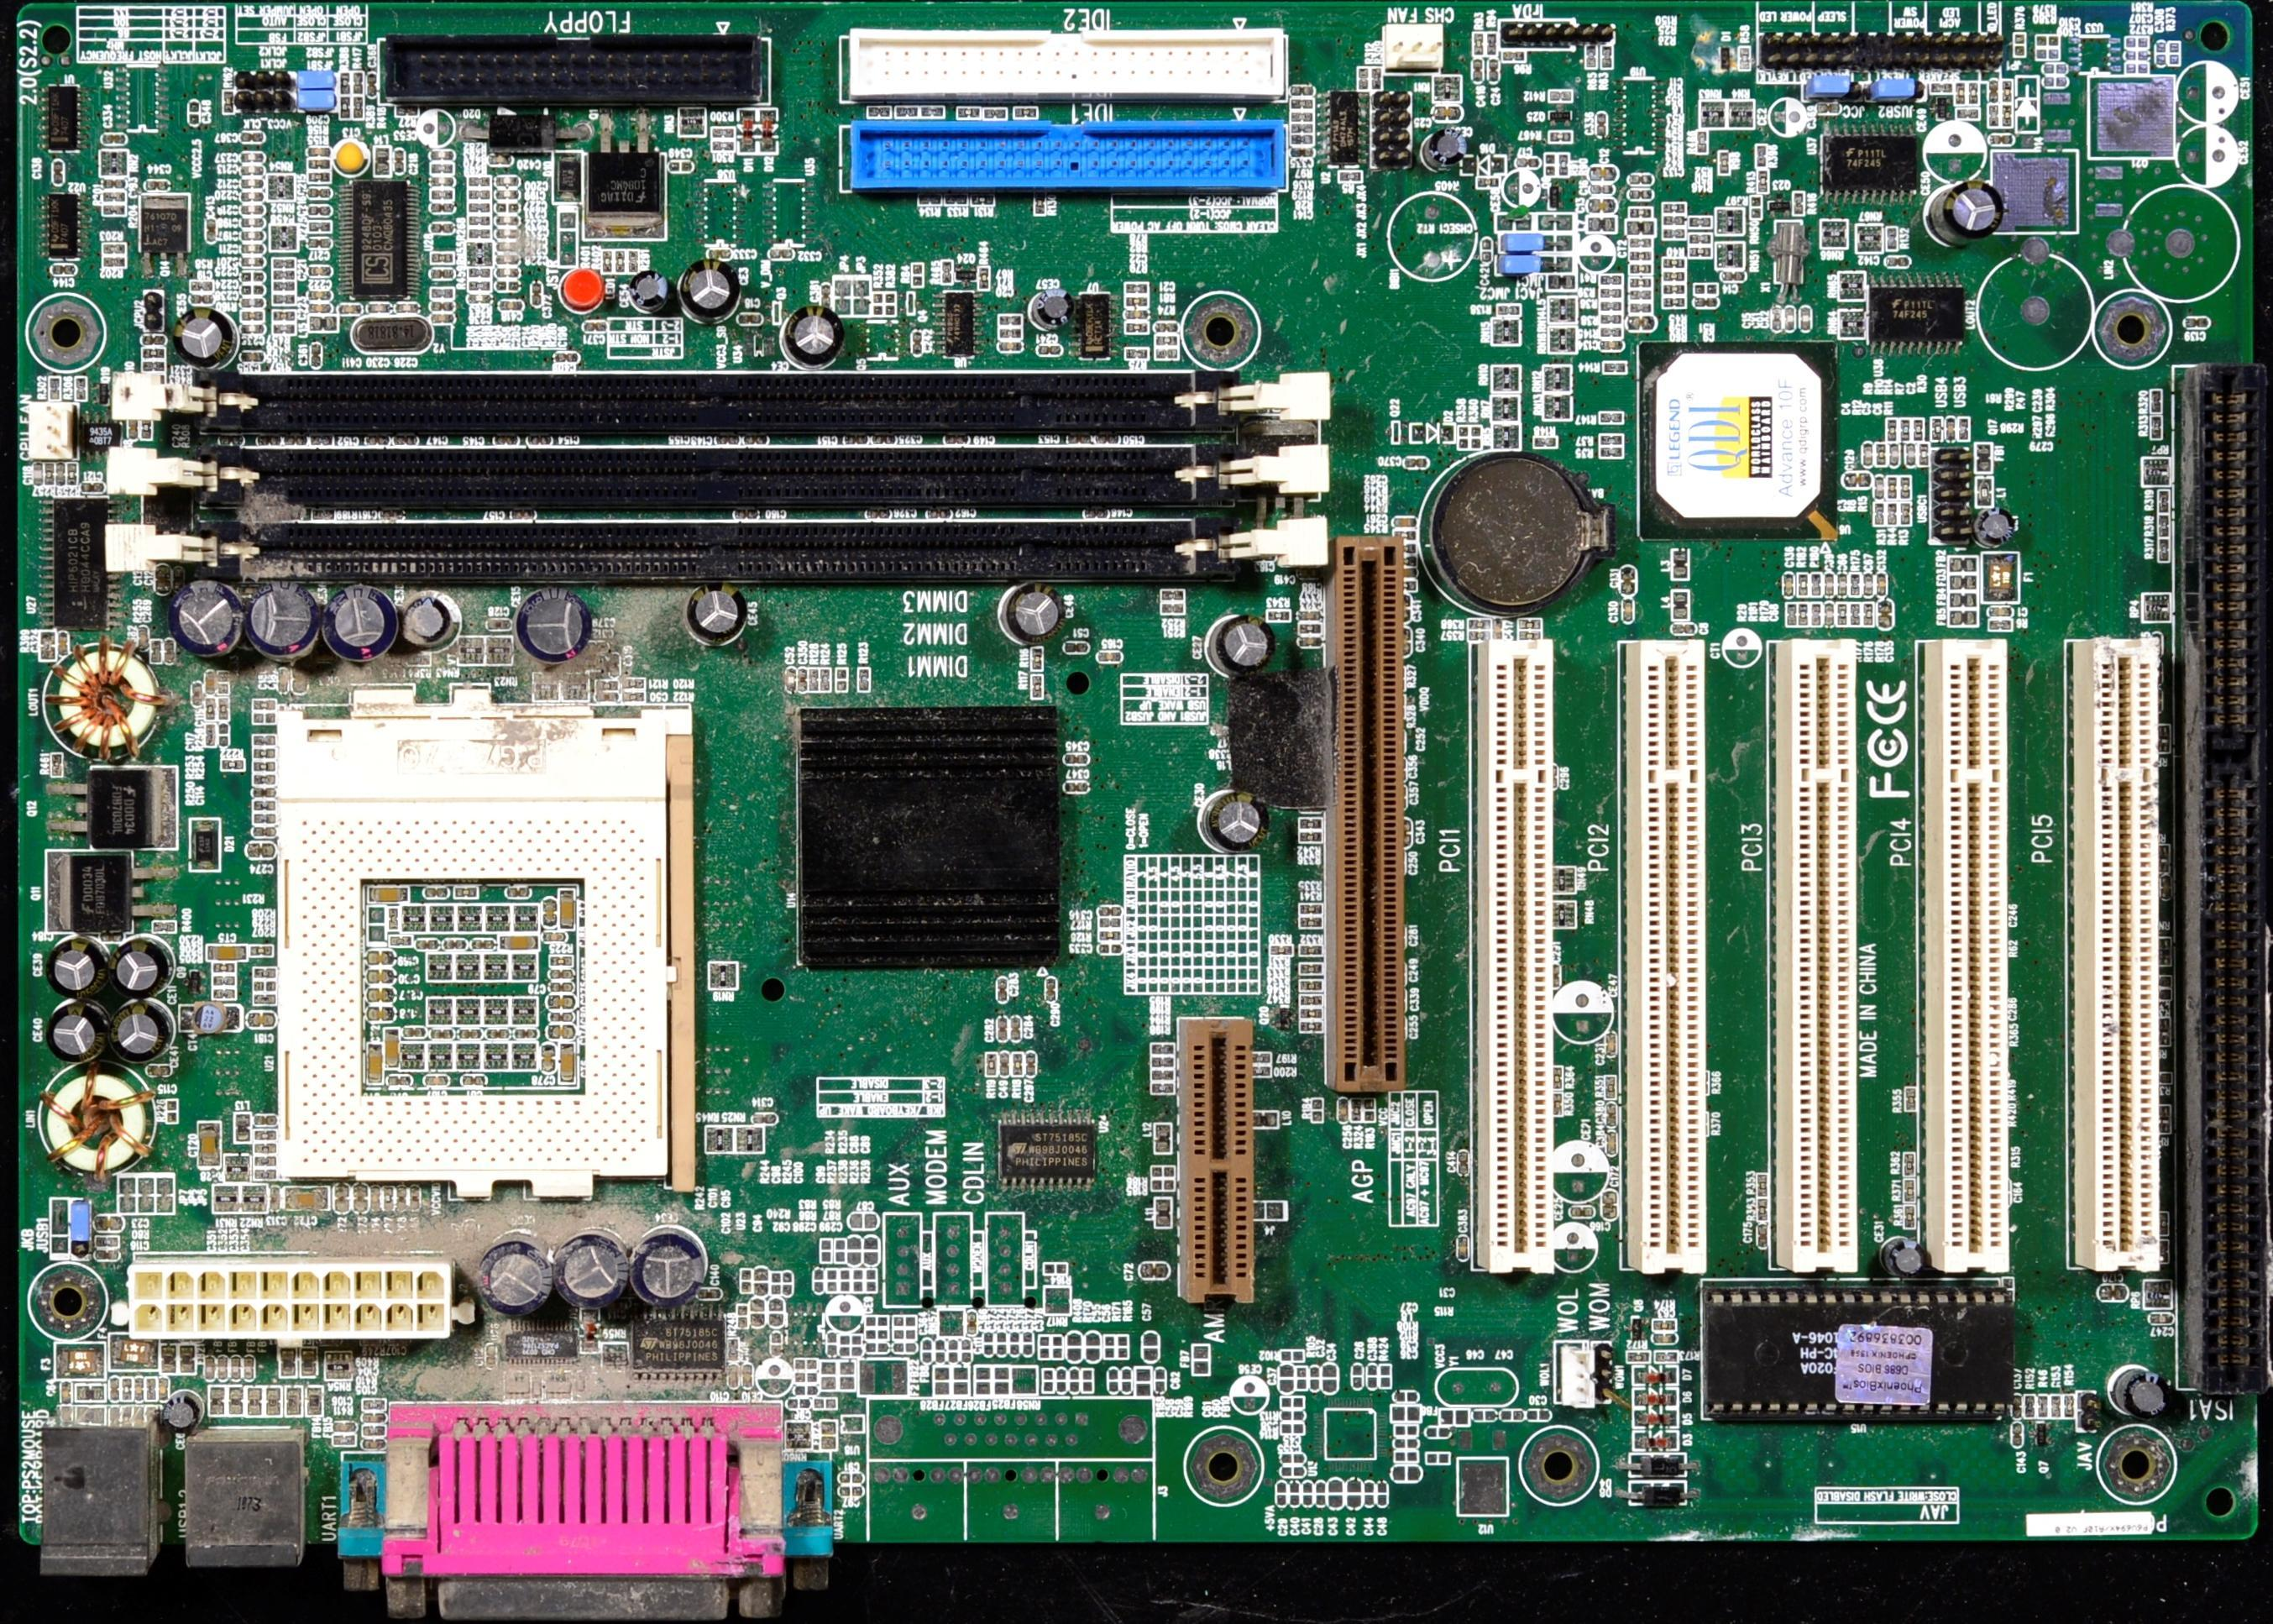Capacitor: (249, 1011, 279, 1033), (1432, 105, 1467, 123), (2097, 1283, 2129, 1302), (1844, 471, 1873, 492), (1876, 603, 1895, 633), (155, 566, 172, 598), (1277, 1367, 1296, 1396), (1326, 1482, 1346, 1510), (1321, 1362, 1339, 1392), (1628, 316, 1658, 334), (93, 1218, 125, 1234), (1138, 1265, 1170, 1281), (2010, 1424, 2025, 1454), (1588, 199, 1618, 214), (1876, 573, 1892, 603), (1621, 566, 1635, 598), (1621, 598, 1637, 626), (1063, 640, 1091, 656), (1096, 652, 1124, 668), (1375, 1480, 1389, 1510), (1347, 1480, 1361, 1510), (1590, 169, 1620, 183), (207, 986, 234, 1002), (1288, 1485, 1303, 1512), (1797, 304, 1813, 330), (1486, 58, 1502, 84), (1653, 1332, 1681, 1346), (1309, 1364, 1323, 1392), (1122, 308, 1151, 322), (1771, 306, 1785, 334), (1781, 571, 1795, 599), (1298, 606, 1323, 622), (783, 670, 799, 694), (213, 963, 239, 977), (93, 1250, 119, 1264), (1403, 457, 1430, 471), (1063, 780, 1089, 794), (2147, 1311, 2176, 1323), (237, 132, 267, 144), (1281, 1464, 1310, 1476), (1625, 174, 1655, 186), (994, 1019, 1010, 1042), (1298, 1483, 1314, 1506), (365, 74, 379, 98), (1098, 905, 1126, 917), (1096, 944, 1124, 956), (1606, 1033, 1620, 1058), (999, 1053, 1012, 1081), (1337, 1097, 1351, 1121), (1606, 1102, 1618, 1130), (1458, 1149, 1470, 1178), (429, 149, 457, 162), (1516, 156, 1541, 170), (429, 174, 453, 188), (309, 264, 334, 278), (1035, 344, 1063, 357), (2045, 76, 2069, 90), (994, 981, 1010, 1002), (499, 227, 520, 243), (1045, 977, 1057, 1004), (1606, 1134, 1618, 1160), (1275, 1480, 1288, 1506), (671, 160, 697, 172), (1628, 188, 1655, 200), (306, 206, 332, 218), (998, 341, 1024, 353), (1008, 1021, 1022, 1044), (105, 132, 128, 146), (104, 179, 126, 193), (1597, 112, 1609, 137), (1502, 1410, 1526, 1422), (1474, 1410, 1498, 1422), (430, 163, 455, 176), (497, 204, 522, 216), (204, 218, 216, 243), (768, 248, 792, 260), (1721, 271, 1746, 283), (309, 302, 334, 315), (1785, 308, 1797, 332), (1393, 517, 1418, 529), (239, 153, 267, 163), (1588, 185, 1616, 195), (309, 186, 330, 200), (242, 228, 263, 243), (706, 250, 734, 260), (1883, 258, 1911, 269), (218, 722, 228, 750), (1353, 1366, 1365, 1388), (1528, 1410, 1551, 1422), (1363, 1482, 1375, 1504), (497, 176, 520, 188), (53, 265, 76, 278), (530, 283, 543, 306), (912, 332, 924, 355), (1864, 575, 1876, 598), (190, 100, 200, 127), (1284, 1454, 1310, 1464), (306, 148, 332, 158), (490, 155, 516, 165), (141, 181, 172, 190), (306, 239, 332, 250), (1483, 237, 1493, 264), (306, 290, 332, 301), (499, 301, 525, 311), (2183, 318, 2210, 329), (1864, 443, 1874, 469), (2043, 65, 2069, 76), (1291, 148, 1316, 158), (242, 179, 267, 190), (241, 193, 265, 204), (497, 216, 522, 227), (499, 255, 520, 267), (242, 272, 267, 283), (469, 294, 494, 304), (369, 302, 393, 313), (1154, 322, 1179, 332), (241, 325, 265, 336), (142, 336, 167, 346), (1600, 341, 1625, 352), (81, 483, 105, 494), (2157, 42, 2168, 67), (1823, 575, 1836, 596), (1988, 606, 2013, 617), (1474, 62, 1486, 83), (2124, 51, 2152, 60), (1758, 1225, 1769, 1248), (53, 162, 63, 185), (242, 206, 265, 216), (1887, 228, 1897, 251), (497, 241, 520, 251), (244, 243, 267, 253), (244, 257, 267, 267), (242, 285, 265, 295), (399, 304, 422, 315), (1890, 446, 1901, 469), (1837, 575, 1848, 598), (1493, 620, 1505, 640), (1026, 1051, 1035, 1077), (738, 316, 764, 325), (1948, 417, 1957, 443), (432, 190, 453, 200), (497, 190, 518, 200), (499, 267, 520, 278), (191, 295, 213, 306), (33, 464, 44, 485), (1300, 636, 1321, 647), (1291, 88, 1316, 97), (1458, 1237, 1467, 1262), (429, 204, 453, 213), (1695, 299, 1720, 308), (313, 343, 321, 367), (1825, 605, 1834, 629), (1063, 756, 1087, 765), (2011, 1397, 2022, 1417), (244, 165, 263, 176), (341, 304, 360, 315), (395, 149, 404, 172), (242, 220, 265, 228), (497, 283, 520, 292), (242, 299, 265, 308), (242, 352, 265, 360), (1878, 478, 1887, 501), (1368, 1366, 1375, 1390), (213, 977, 232, 986), (1908, 448, 1916, 468), (801, 670, 808, 691), (1317, 1483, 1324, 1503)
Connector: (204, 508, 1328, 603), (358, 1381, 778, 1624), (2178, 357, 2273, 1385), (170, 364, 1328, 425), (183, 439, 1317, 501), (1915, 642, 2015, 1278), (1621, 643, 1716, 1278), (1769, 642, 1864, 1274), (2067, 645, 2161, 1269), (1483, 642, 1555, 1276), (1335, 536, 1405, 1093), (137, 1250, 462, 1366), (841, 121, 1277, 193), (847, 37, 1300, 98), (397, 33, 748, 107), (1179, 1018, 1259, 1304)
IC: (1700, 1283, 2011, 1427), (39, 499, 121, 633), (337, 183, 422, 302), (1867, 274, 1966, 357), (1001, 1111, 1100, 1192), (1820, 128, 1915, 204), (1316, 1399, 1386, 1471), (1317, 90, 1368, 169), (1616, 79, 1665, 158), (39, 83, 90, 155), (141, 195, 188, 269), (1073, 294, 1121, 364), (699, 179, 748, 246), (1456, 1457, 1511, 1517), (933, 294, 980, 360), (764, 183, 817, 241), (42, 193, 88, 258), (2071, 35, 2120, 74)
Resistor: (197, 1118, 223, 1171), (149, 917, 179, 935), (1623, 1348, 1651, 1366), (1029, 647, 1047, 673), (1548, 90, 1577, 104), (1651, 1316, 1678, 1332), (1472, 32, 1488, 58), (220, 758, 246, 773), (1902, 1088, 1920, 1111), (834, 668, 852, 691), (855, 668, 873, 691), (248, 944, 276, 958), (1553, 1065, 1567, 1093), (1277, 1346, 1305, 1360), (1549, 132, 1577, 146), (978, 265, 992, 294), (1737, 46, 1751, 74), (2148, 417, 2164, 441), (1584, 46, 1600, 70), (1755, 1197, 1769, 1223), (1598, 327, 1625, 341), (1533, 436, 1560, 450), (1809, 575, 1823, 601), (1147, 1056, 1177, 1069), (1653, 1350, 1683, 1362), (1151, 1040, 1173, 1056), (1901, 1155, 1916, 1178), (2046, 1396, 2062, 1418), (1885, 418, 1901, 441), (1913, 420, 1929, 443), (1300, 963, 1324, 977), (249, 967, 278, 979), (167, 1095, 179, 1123), (1310, 1098, 1324, 1123), (2060, 1396, 2075, 1420), (2036, 1397, 2050, 1422), (1718, 151, 1732, 176), (1757, 170, 1771, 195), (1688, 232, 1713, 246), (583, 320, 608, 334), (1604, 362, 1628, 376), (76, 376, 90, 401), (1672, 624, 1700, 636), (805, 671, 820, 692), (1012, 1053, 1024, 1079), (1151, 1069, 1177, 1081), (1365, 1098, 1377, 1125), (306, 158, 332, 170), (467, 267, 494, 279), (1628, 302, 1655, 315), (999, 316, 1026, 329), (1598, 411, 1625, 424), (1159, 605, 1186, 617), (1987, 619, 2013, 631), (2125, 63, 2152, 76), (1370, 69, 1382, 95), (1251, 1051, 1274, 1065), (984, 1053, 998, 1076), (1151, 1079, 1173, 1093), (1551, 1095, 1565, 1118), (1757, 1174, 1771, 1197), (945, 193, 968, 207), (942, 262, 956, 285), (1156, 348, 1179, 362), (1486, 33, 1500, 56), (1930, 418, 1945, 441), (1899, 504, 1913, 527), (1268, 610, 1291, 624), (204, 724, 218, 747), (95, 1237, 125, 1248), (1302, 1019, 1321, 1035), (341, 95, 353, 120), (710, 141, 734, 153), (1755, 144, 1767, 169), (307, 170, 332, 183), (1339, 172, 1363, 185), (102, 193, 126, 206), (1688, 246, 1713, 258), (615, 248, 627, 272), (601, 250, 613, 274), (1126, 297, 1151, 309), (1497, 304, 1521, 316), (1876, 443, 1888, 468), (1274, 944, 1295, 958), (1296, 981, 1324, 991), (1033, 195, 1047, 216), (1957, 418, 1971, 439), (1161, 591, 1189, 601), (1298, 993, 1321, 1005), (1606, 1077, 1618, 1100), (1152, 1179, 1175, 1192), (1381, 1366, 1393, 1388), (1544, 153, 1556, 176), (1793, 193, 1806, 216), (469, 202, 492, 214), (1628, 248, 1651, 260), (1600, 274, 1623, 286), (1126, 283, 1149, 295), (1600, 313, 1623, 325), (47, 378, 60, 401), (2150, 390, 2162, 413), (1888, 504, 1901, 527), (2038, 47, 2060, 60), (2169, 42, 2182, 65), (2159, 540, 2171, 562), (1795, 573, 1808, 596), (1799, 605, 1811, 627), (1298, 624, 1321, 636), (1096, 917, 1122, 928), (249, 981, 276, 991), (1289, 112, 1316, 123), (710, 128, 736, 139), (820, 285, 831, 311), (998, 329, 1024, 339), (1356, 69, 1370, 88), (1291, 100, 1316, 111), (1904, 1206, 1915, 1230), (1699, 132, 1709, 156), (469, 178, 494, 188), (973, 195, 994, 207), (1630, 207, 1651, 220), (1688, 218, 1713, 228), (309, 221, 334, 232), (471, 228, 492, 241), (1630, 237, 1655, 248), (104, 257, 128, 267), (629, 250, 639, 274), (1663, 271, 1685, 283), (471, 279, 492, 292), (1663, 281, 1685, 294), (873, 294, 884, 318), (1598, 301, 1623, 311), (1598, 434, 1623, 445), (2159, 490, 2169, 515), (1851, 573, 1862, 598), (1851, 605, 1864, 626), (1521, 619, 1542, 631), (1519, 629, 1541, 642), (1468, 629, 1490, 642), (216, 698, 228, 719), (1298, 817, 1319, 830), (1300, 831, 1321, 844), (100, 244, 128, 253), (1597, 450, 1625, 459), (223, 90, 234, 112), (1152, 1167, 1175, 1178), (1904, 1179, 1915, 1202), (1293, 135, 1316, 146), (467, 190, 490, 200), (104, 206, 126, 216), (1628, 264, 1651, 274), (1630, 278, 1653, 288), (190, 281, 213, 292), (1600, 290, 1623, 301), (1630, 290, 1653, 301), (1663, 299, 1686, 309), (2038, 35, 2060, 46), (1470, 427, 1481, 450), (1458, 427, 1468, 450), (1918, 446, 1929, 469), (46, 462, 56, 485), (67, 464, 77, 487), (1874, 504, 1885, 527), (1033, 677, 1043, 700), (1124, 350, 1151, 359), (2124, 39, 2150, 47), (471, 216, 492, 227), (1663, 258, 1685, 269), (1128, 323, 1149, 334), (141, 348, 162, 359), (1901, 418, 1911, 439), (2015, 35, 2025, 56), (2159, 517, 2169, 538), (1600, 47, 1611, 69), (1837, 605, 1848, 626), (341, 74, 351, 95), (353, 74, 364, 95), (1291, 127, 1316, 135), (915, 195, 940, 204), (1695, 285, 1720, 294), (142, 362, 167, 371), (1899, 480, 1911, 497), (1101, 930, 1124, 939), (1302, 1011, 1324, 1019), (1560, 155, 1569, 178), (887, 292, 896, 315), (1159, 337, 1182, 346), (1865, 605, 1874, 627), (1300, 917, 1321, 926), (1302, 944, 1319, 954), (255, 997, 276, 1005), (1256, 1067, 1274, 1077), (209, 698, 218, 719), (913, 264, 920, 288), (1788, 605, 1795, 629), (1300, 905, 1319, 914), (1813, 606, 1822, 626), (1470, 620, 1490, 629), (822, 670, 831, 689), (244, 313, 262, 322), (1354, 1100, 1361, 1121), (2024, 1397, 2031, 1417), (1892, 476, 1897, 499)
Transistor: (63, 765, 179, 849), (44, 851, 142, 937), (587, 149, 667, 243), (864, 322, 899, 360), (184, 967, 209, 993), (905, 294, 924, 320), (98, 381, 114, 408), (1769, 197, 1790, 216), (1628, 1320, 1646, 1343), (769, 302, 783, 329), (1551, 112, 1574, 125), (956, 271, 977, 283)
